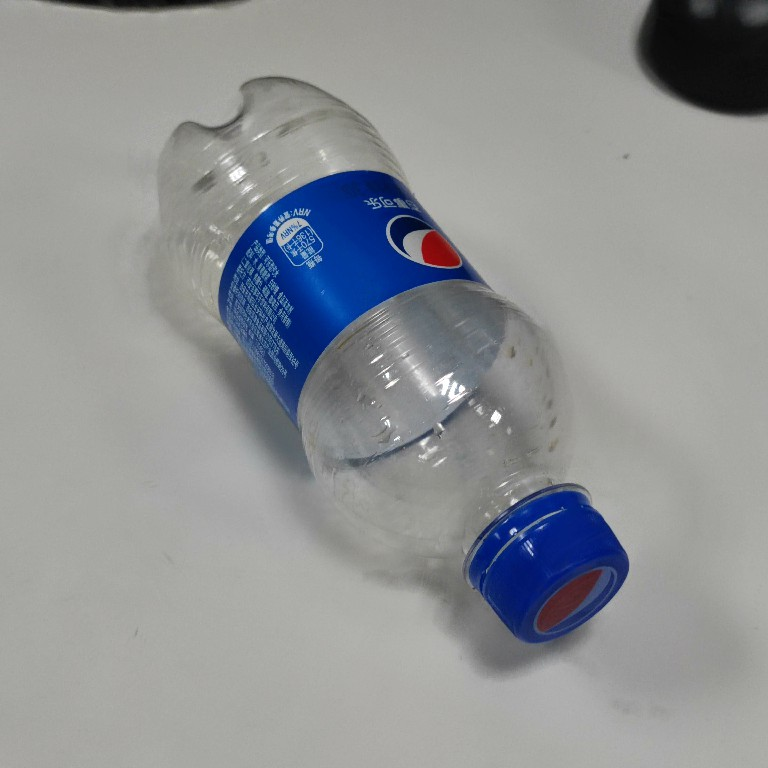bottle: (151, 69, 637, 649)
